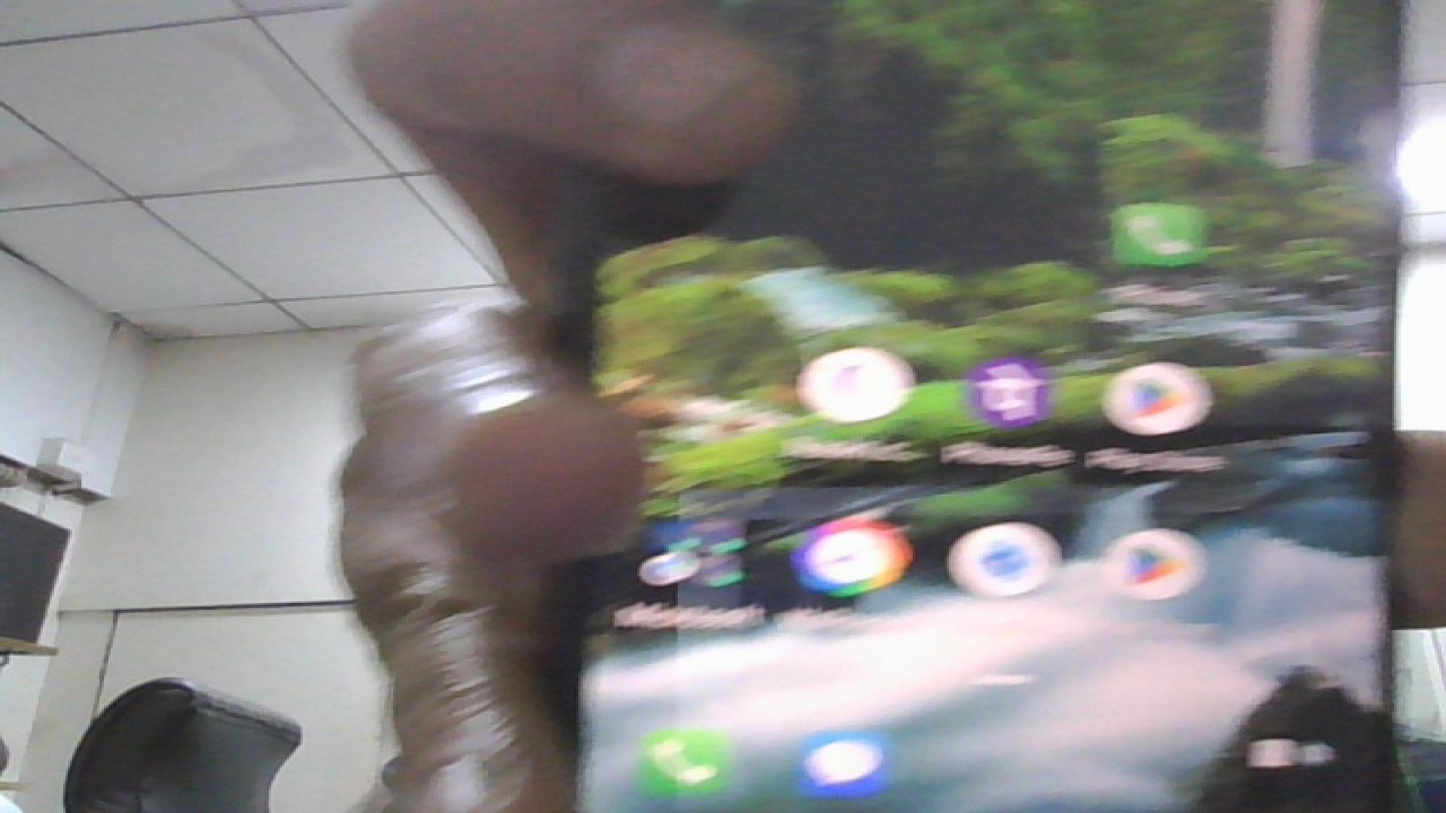phone: (542, 2, 1409, 813)
